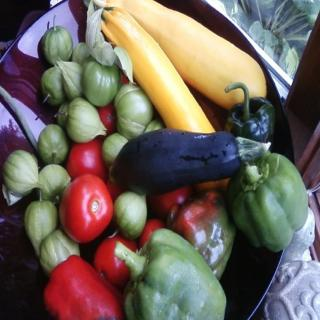tomato: (58, 172, 113, 242), (93, 234, 136, 293), (67, 144, 107, 178), (141, 217, 164, 246), (96, 107, 118, 135)
